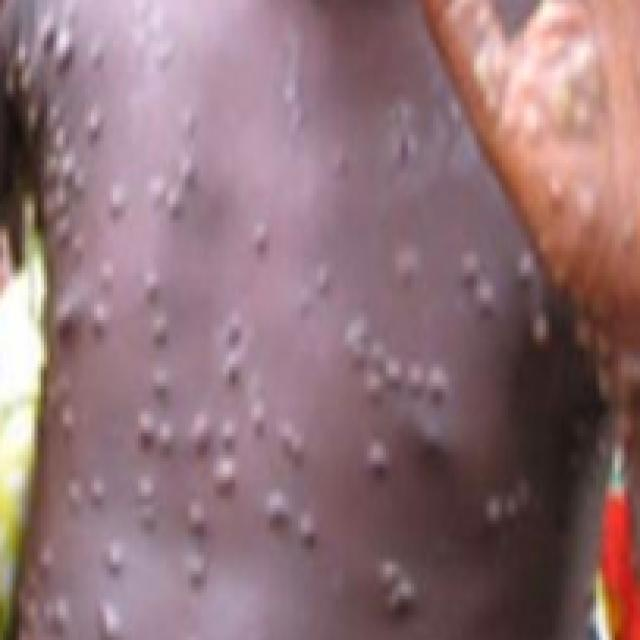Eczema: (0, 33, 628, 637)
